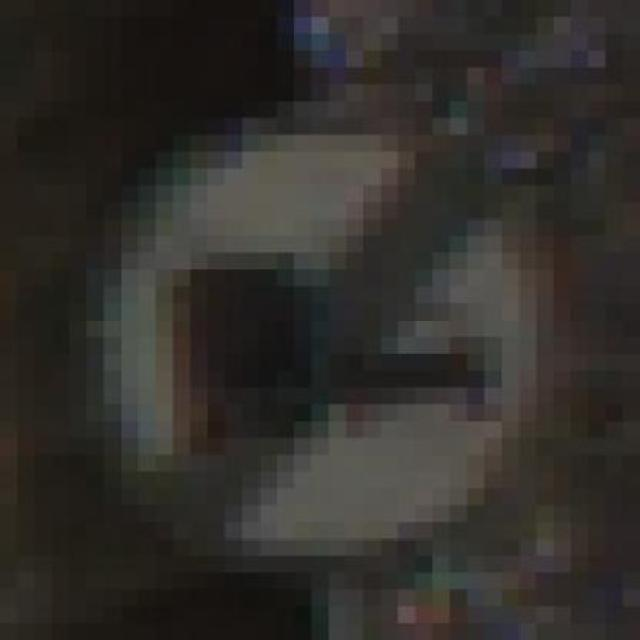Overtaking by trucks is prohibited: (86, 67, 571, 590)
